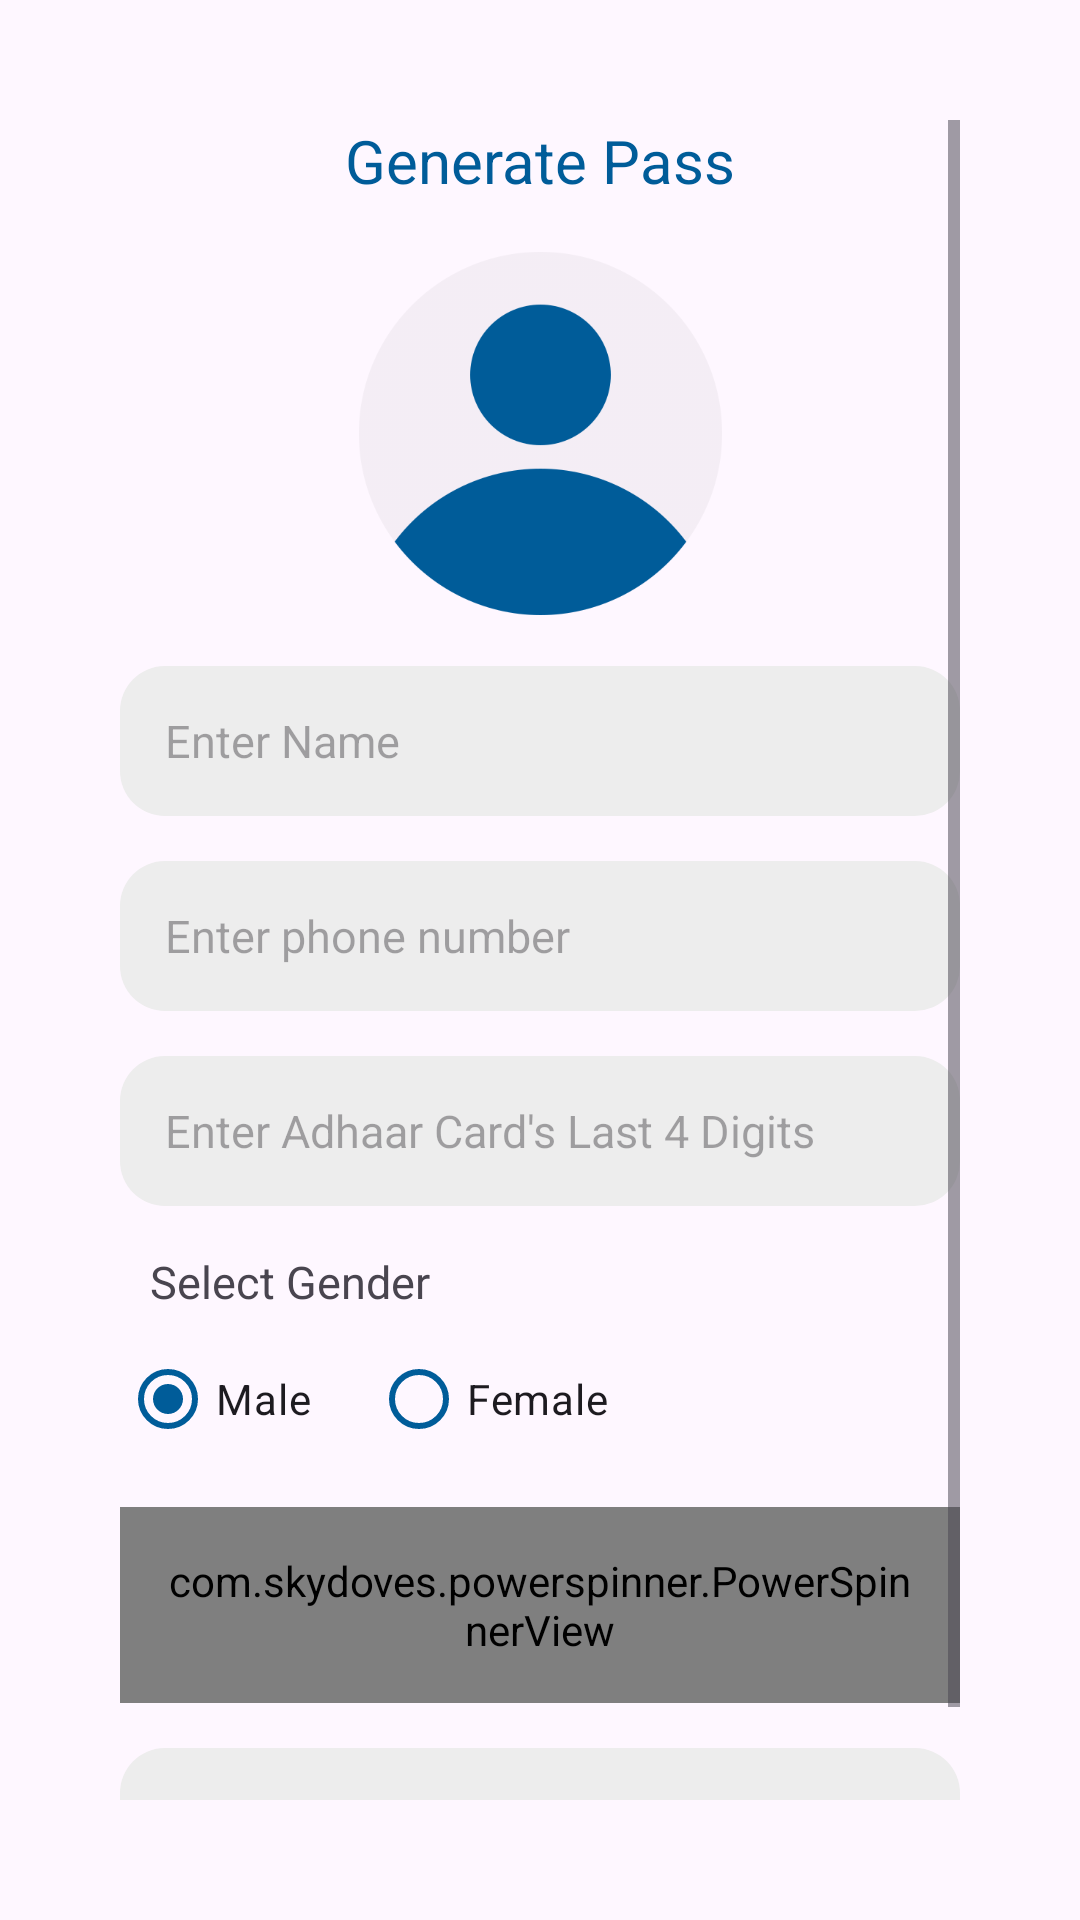

Where to tap for icons on this 1080px x 1920px app screen, as [x,y]:
user: [540,459]
